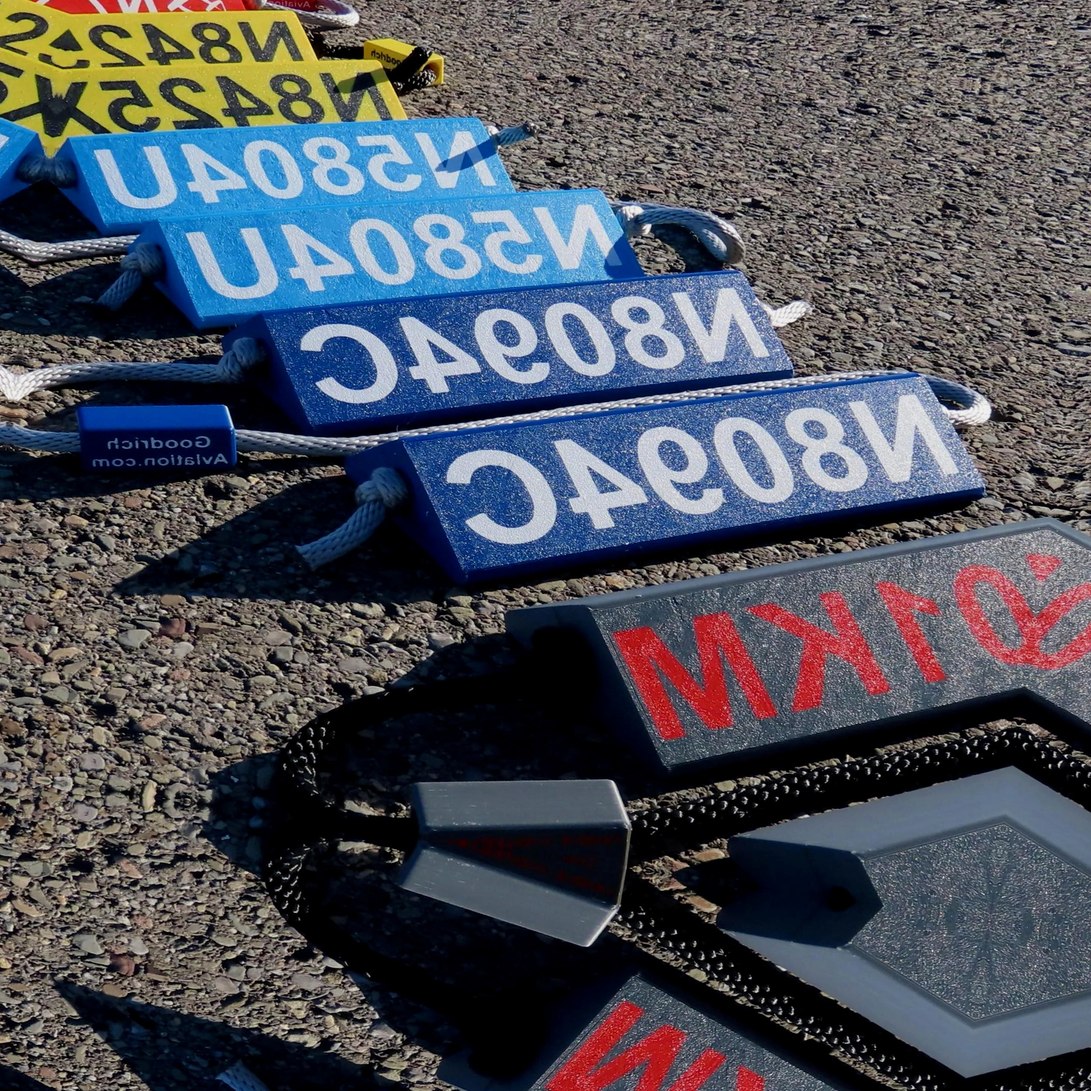chock: (324, 286, 1014, 665), (482, 438, 1047, 838), (204, 196, 811, 509), (117, 121, 656, 397), (41, 53, 532, 294), (409, 928, 973, 1091), (50, 10, 433, 208), (721, 724, 1012, 922), (698, 882, 988, 1080), (62, 0, 346, 110), (967, 922, 1091, 1091), (991, 765, 1091, 962)
